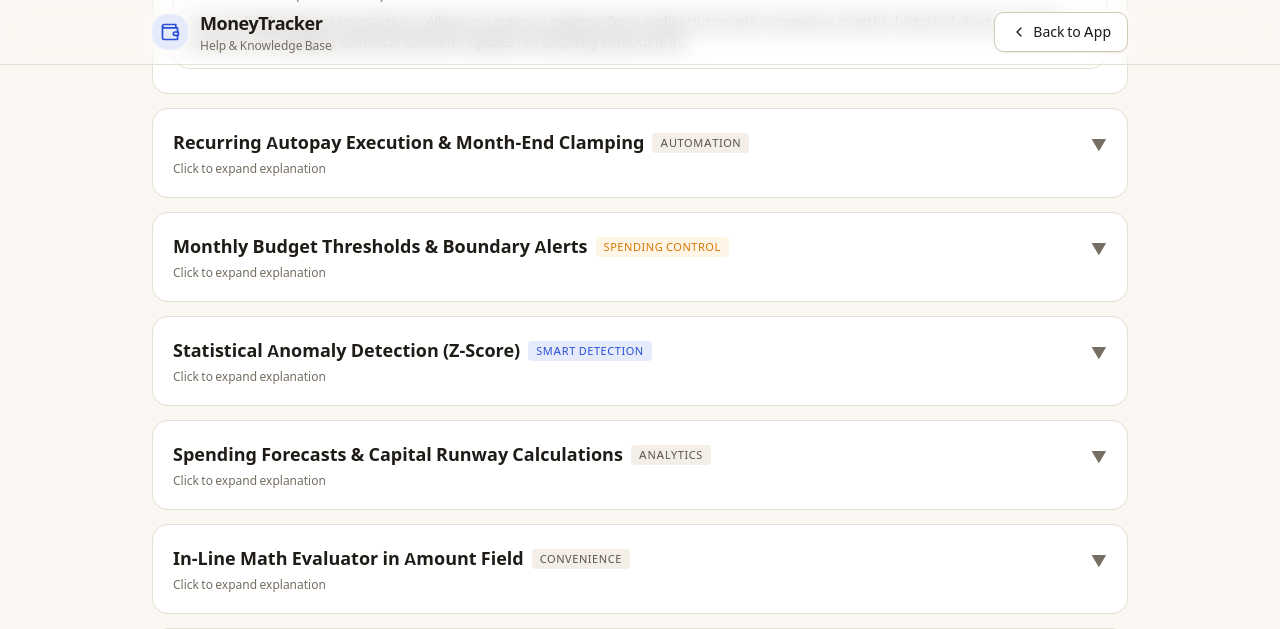
Test: HelpPage Component & Future-Dated Transactions Policy (CORE-21, WEB-12) › toggles expansion of accordion items
(page scrolled)
Expected: the text "Minimum Sample Requirement:" is not shown
Click the button "Statistical Anomaly Detection (Z-Score)" at (640, 361), box [153, 317, 1127, 405]
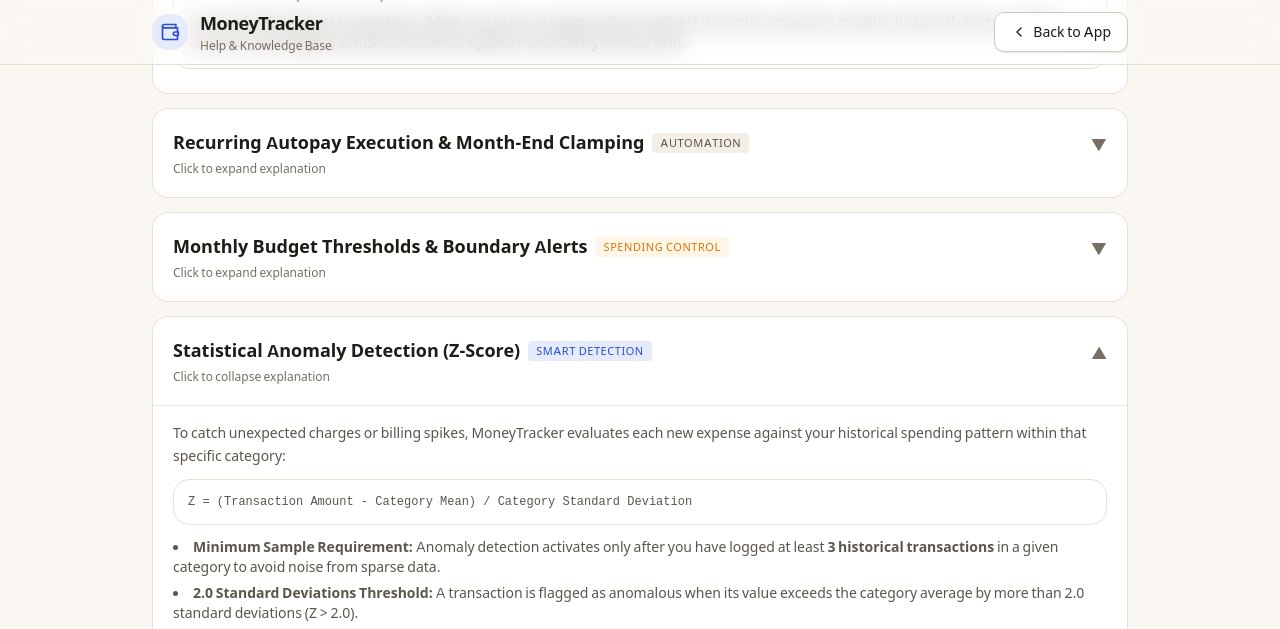
Expected: the text "Minimum Sample Requirement:" is shown, [193, 538, 413, 556]
Click the button "Statistical Anomaly Detection (Z-Score)" at (640, 361), box [153, 317, 1127, 405]
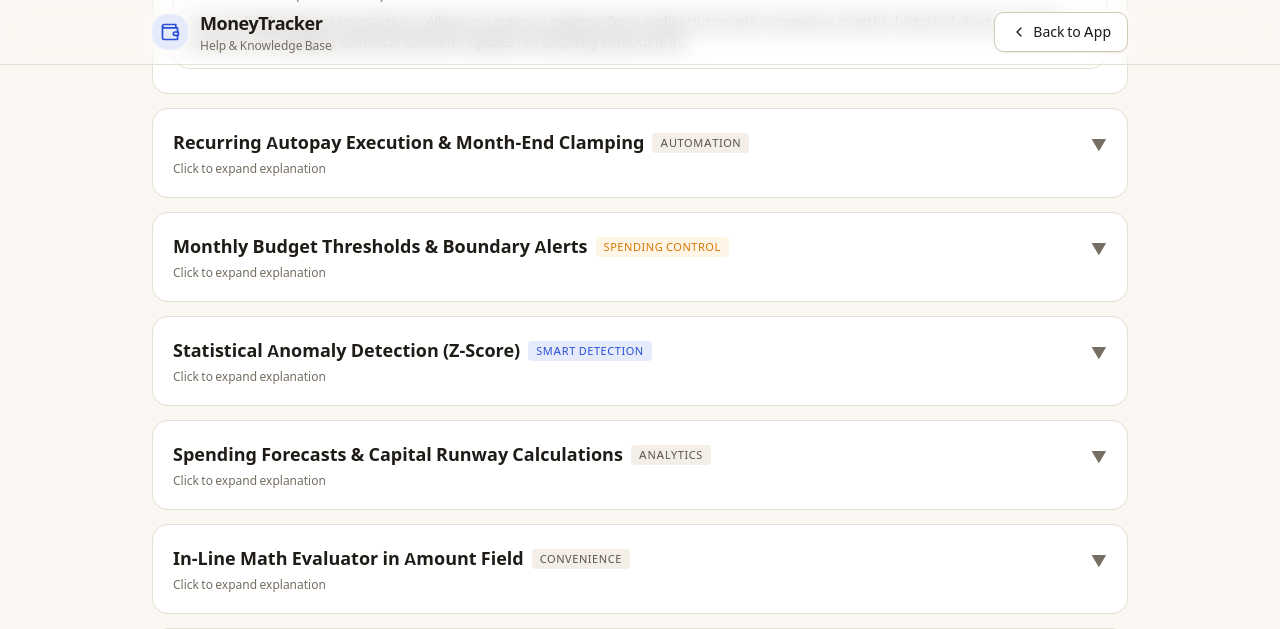
Expected: the text "Minimum Sample Requirement:" is gone
